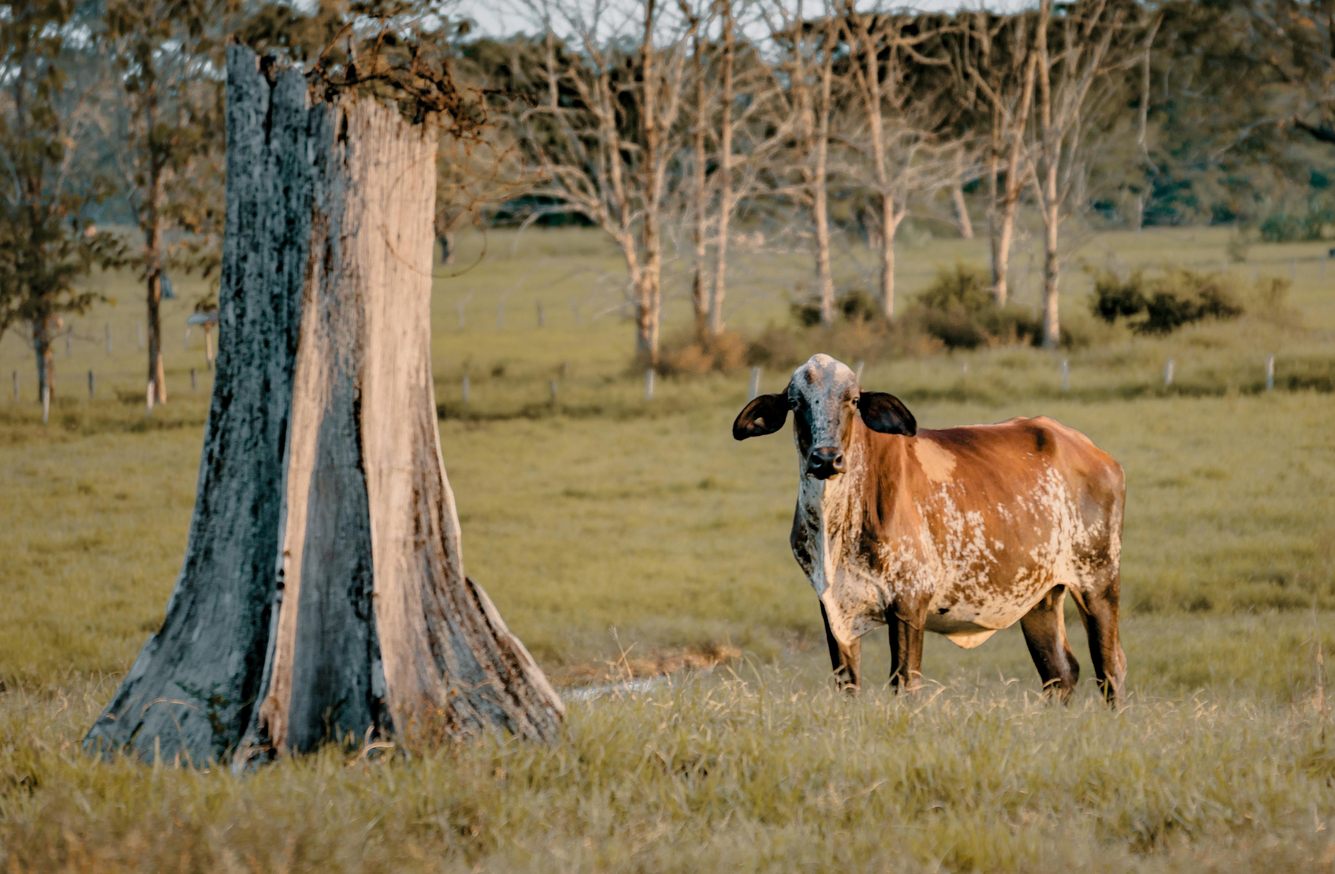bovino: (776, 354, 1130, 715)
